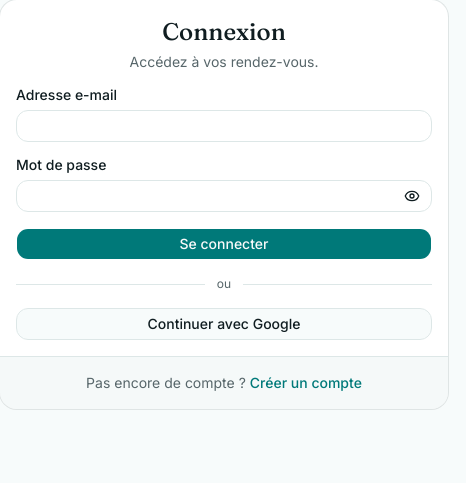
Scenario: LoginForm › affiche un message français pour de mauvais identifiants
The image size is (466, 483).
Type "alice@example.fr" into the field labelled "Adresse e-mail" at x=224, y=126, box left=16, top=110, right=432, bottom=142
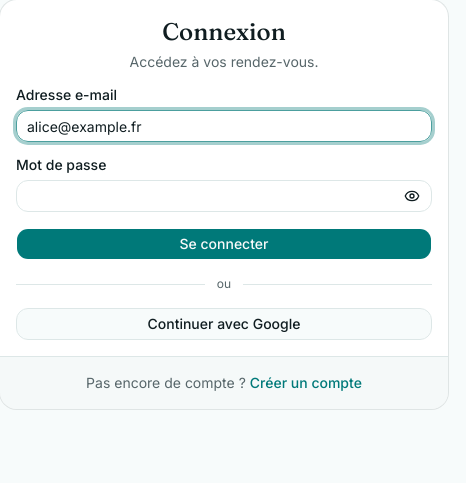
Type "Secret123" into the password field labelled "Mot de passe" at x=224, y=196, box left=16, top=180, right=432, bottom=212
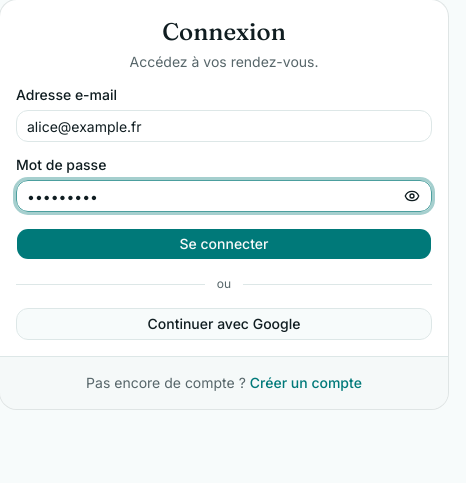
Click the button "Se connecter" at x=224, y=244, box left=16, top=228, right=432, bottom=260
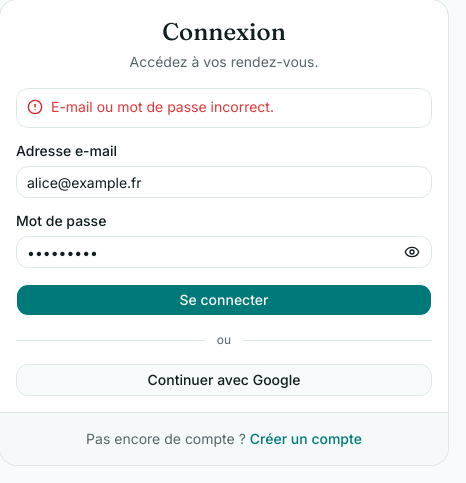
Check: the text "E-mail ou mot de passe incorrect." is shown, box left=51, top=98, right=274, bottom=115
